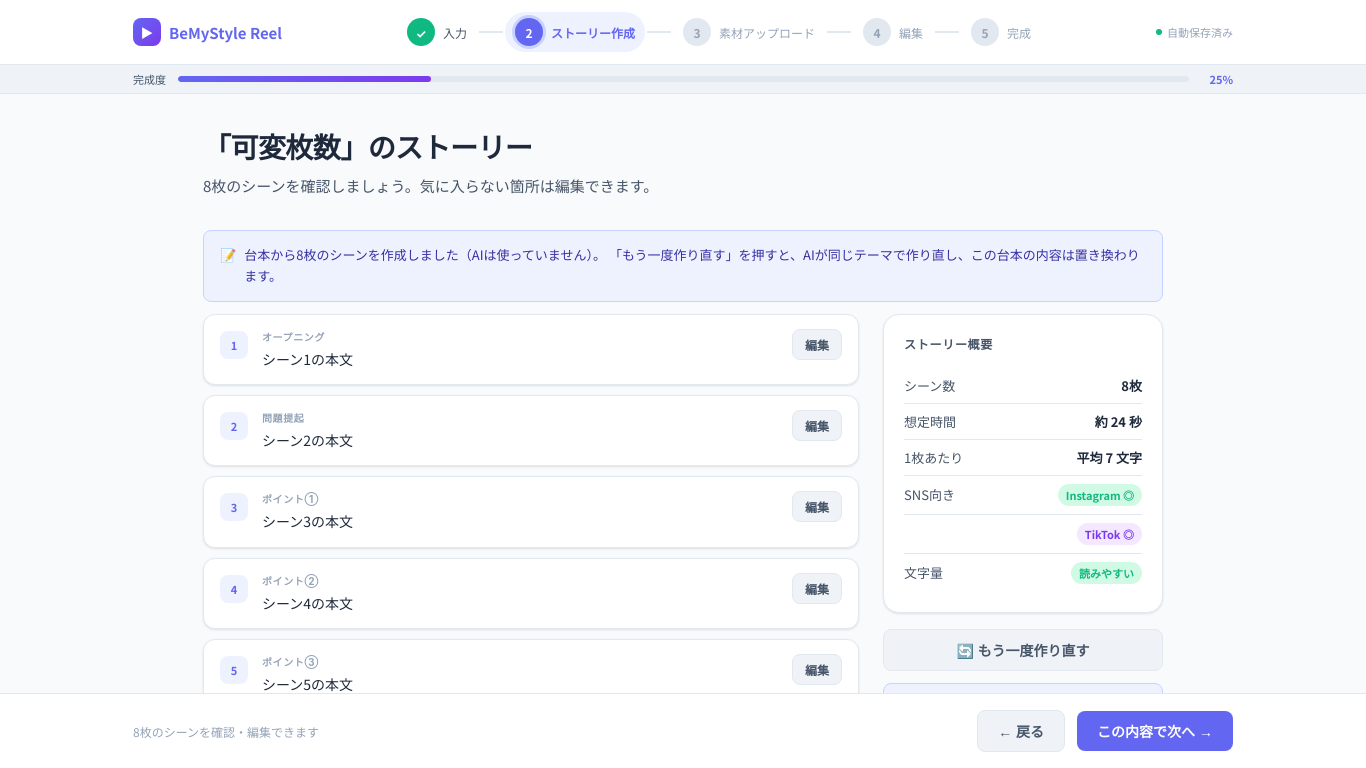
Test: WizardMode: 台本の受け取り（initialScript） › 8枚の台本から「もう一度作り直す」でAI生成（14枚）に置き換えても、画像枠が14枚へ合う
The width and height of the screenshot is (1366, 768).
Step 1. Click the button "🔄 もう一度作り直す" → [1023, 650], box [883,629,1163,671]
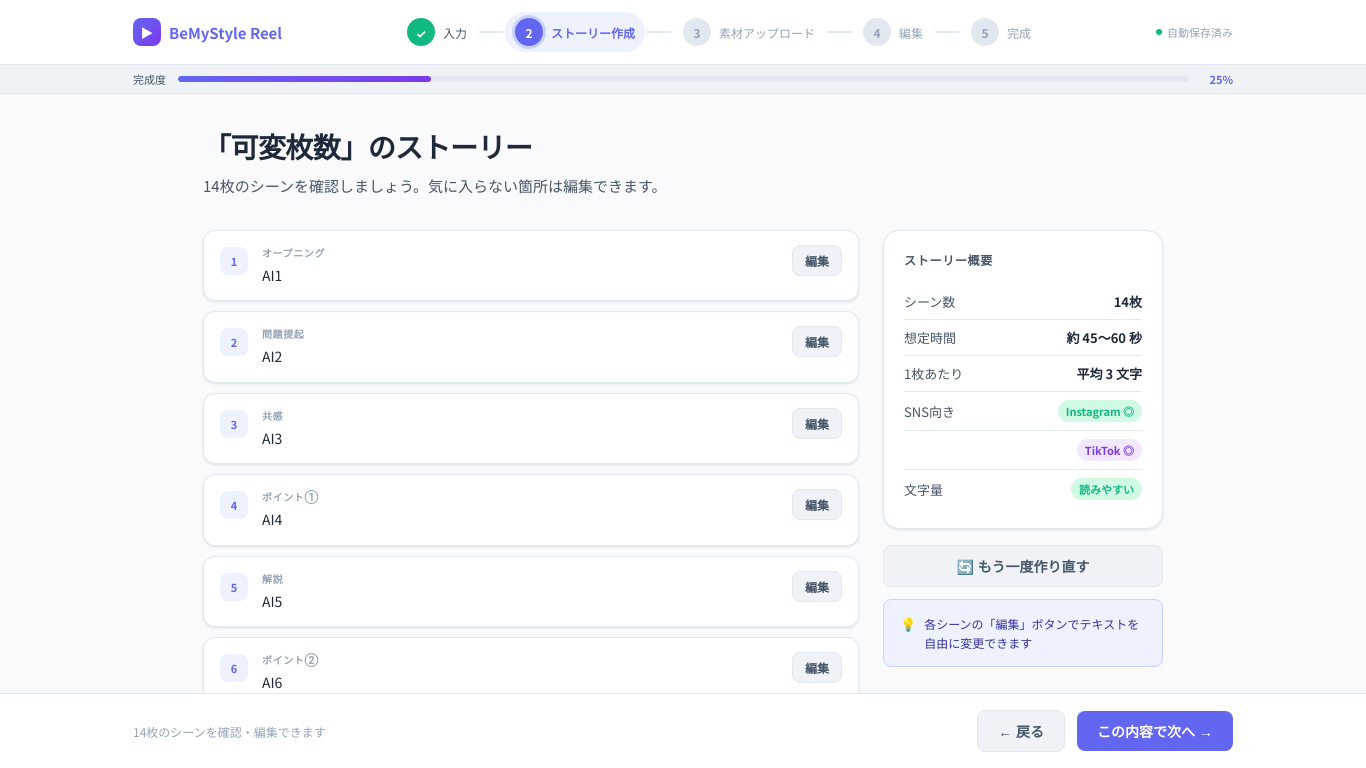
Expected: the text with class "wz-story-text" reads "AI1", [262,265,282,285]
Step 2. Click the button "この内容で次へ →" → [1155, 731], box [1077,711,1233,751]
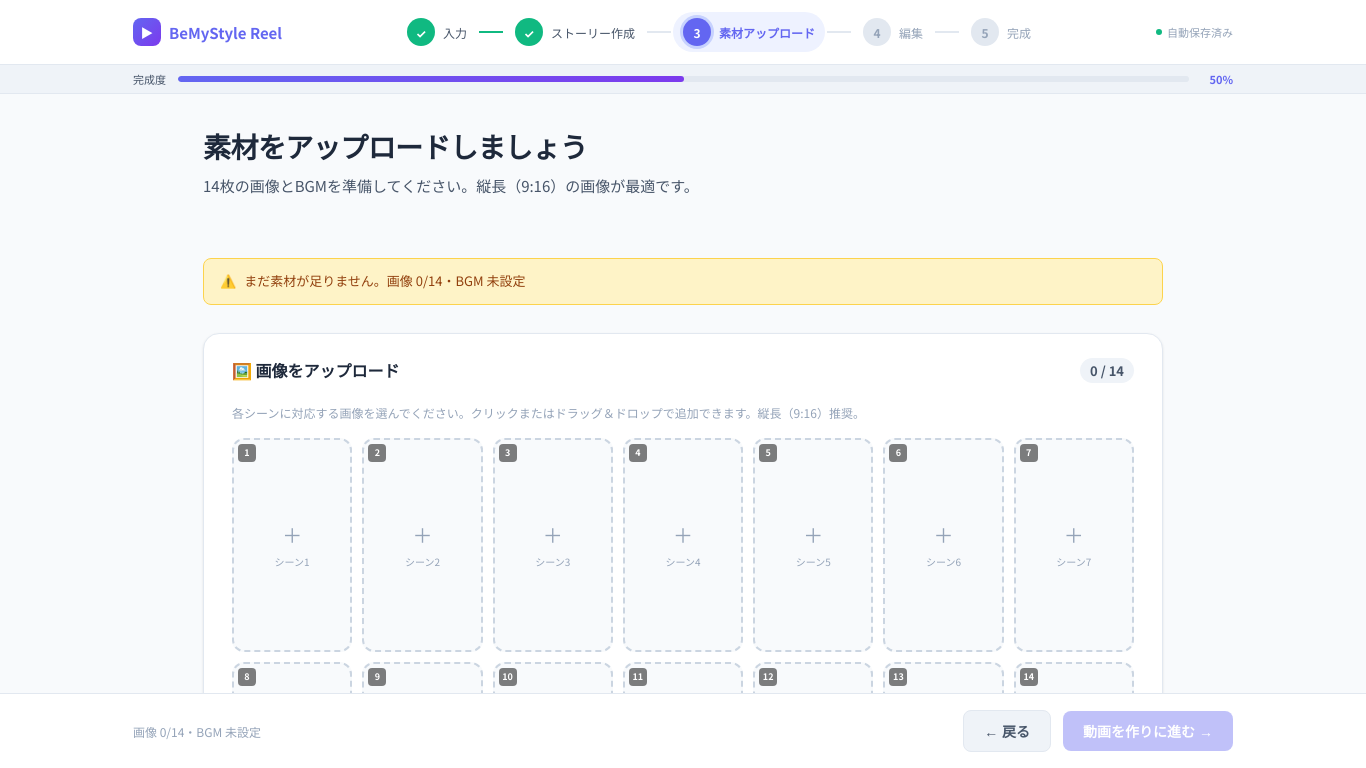
Expected: the text "14枚の画像とBGMを準備してください。縦長（9:16）の画像が最適です。" is shown, [203,175,699,196]
Expected: the text "0 / 14" is shown, [1080,358,1134,383]
